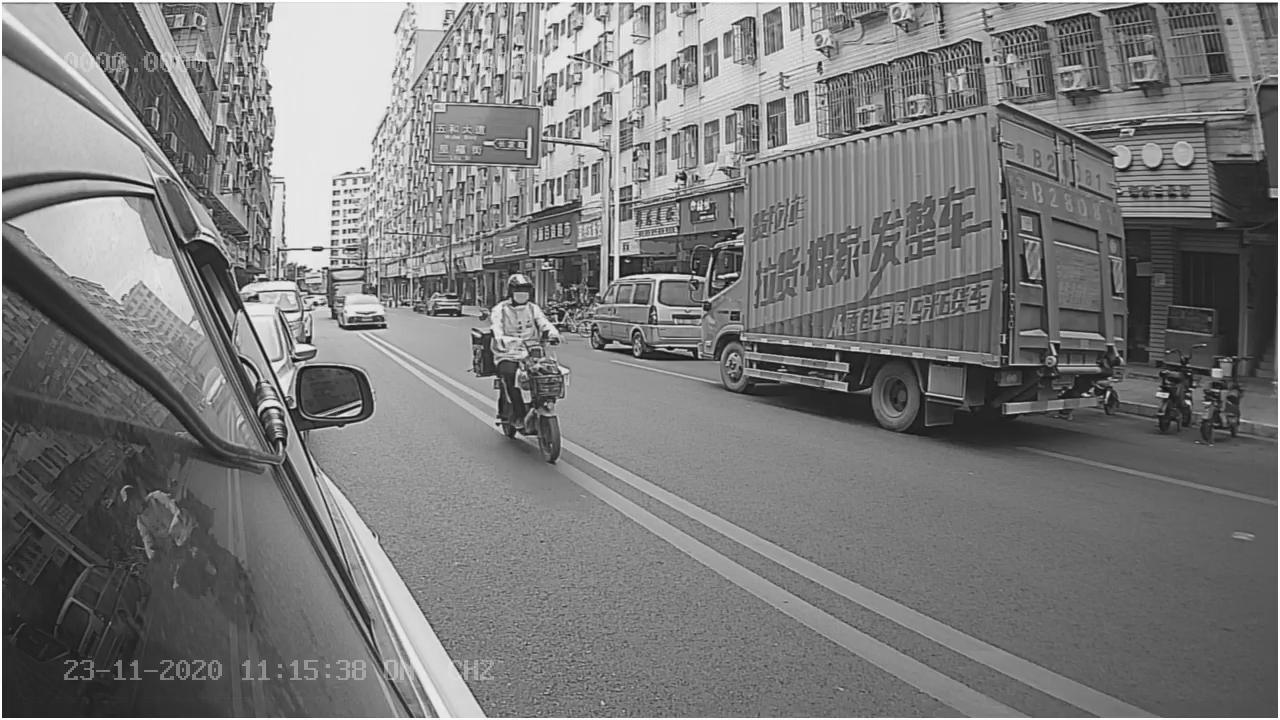person: (481, 271, 570, 352)
